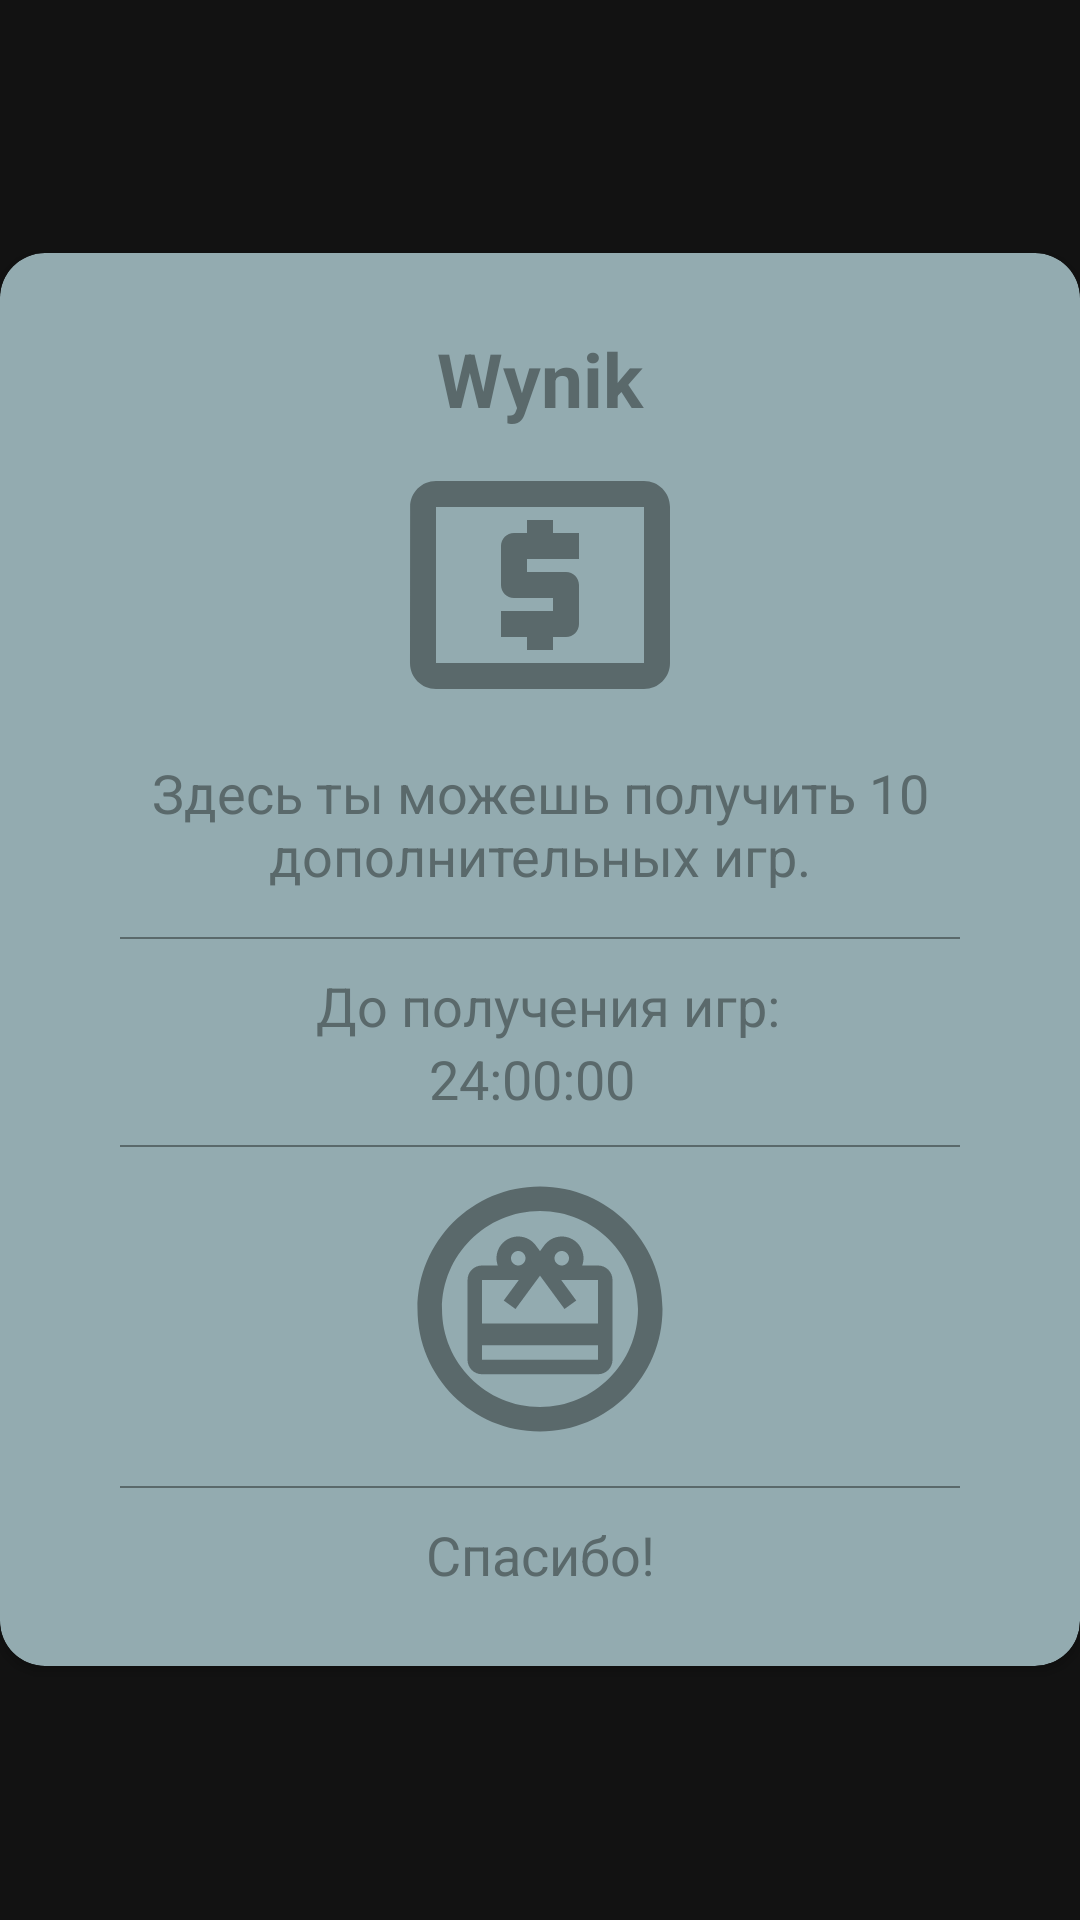

Icons on this 1080 x 1920 Android screen, each with the point to tap as point (x, y):
reward: point (540, 1309)
